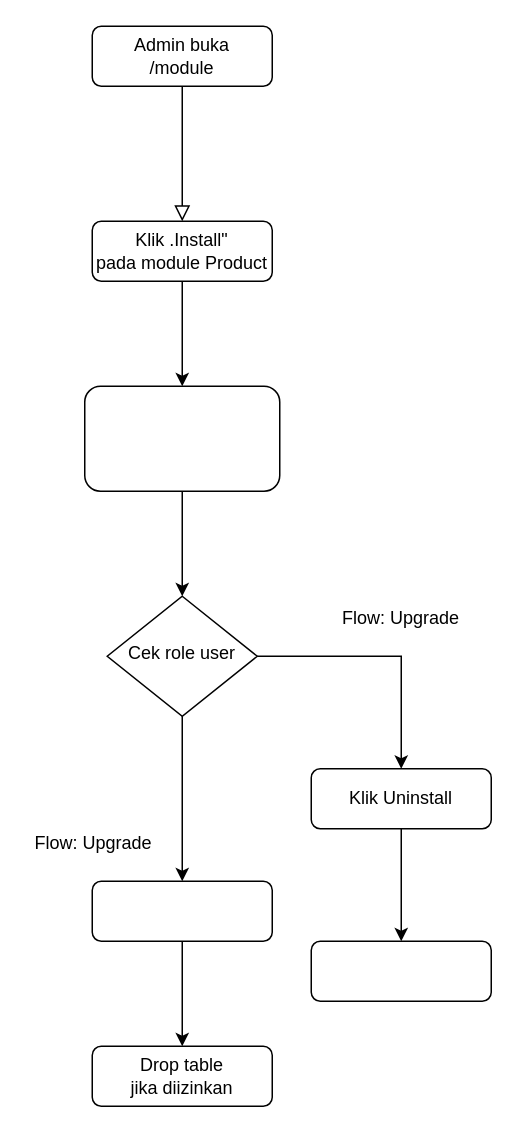
Image size: 518x1133. Some labels were removed from this diagram. Each missing label, with the centre of its shape:
"Hapus dari INSTALLED APPS" belongs at (400,970).
"Jalankan makemigrations" belongs at (181,910).
"System: Tambah INSTALLED APPS Jalankan migrate Register URL" belongs at (181,438).
